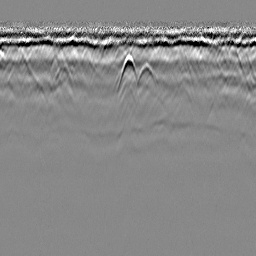cavity: (116, 53, 139, 93)
